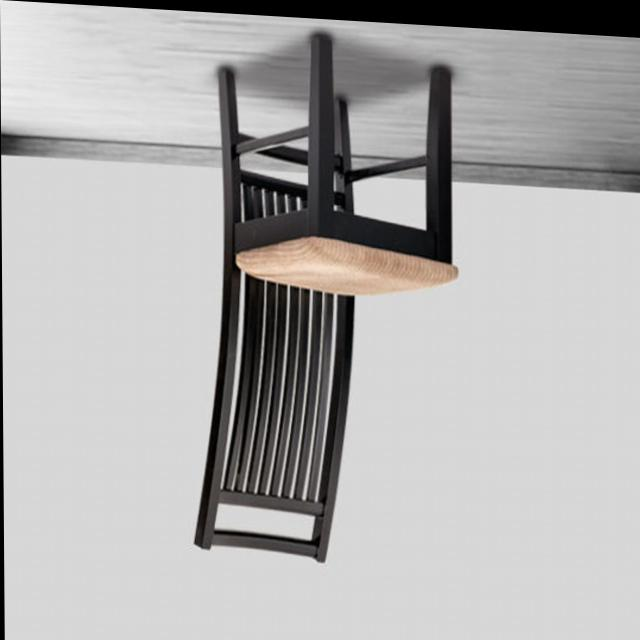Chair: (191, 24, 462, 566)
